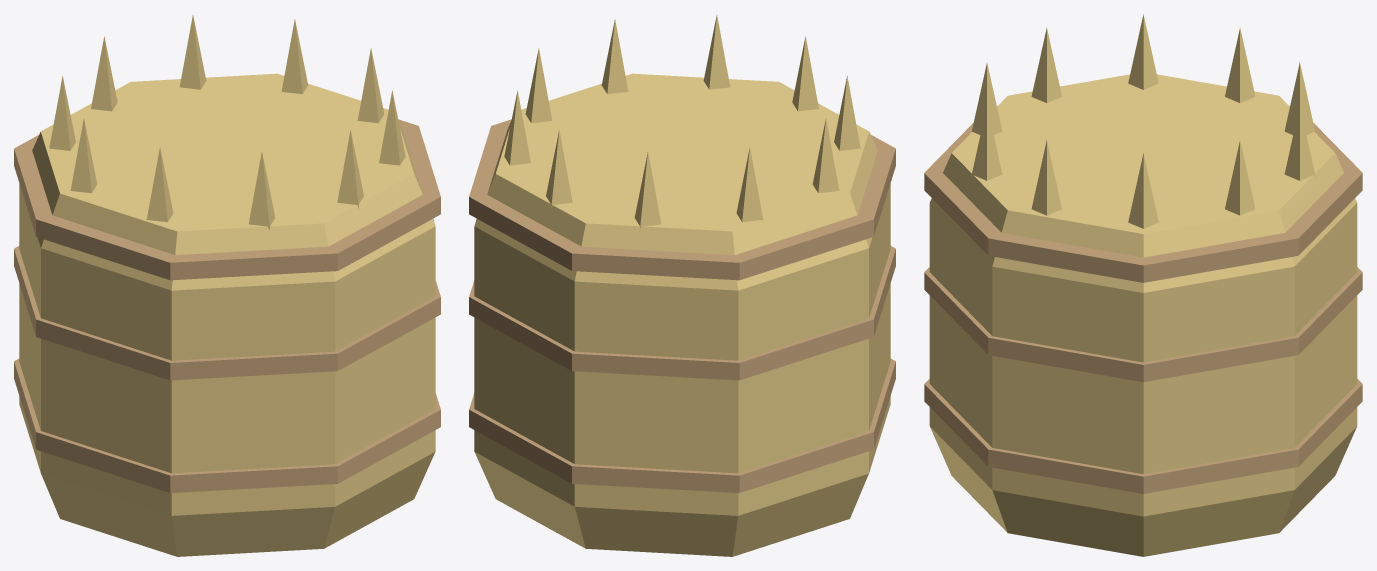
File: medieval-mmo-starter-realm-hay-bale-12135bfd.glb
The picture shows the model from 3 angles, left to right: view 1: azimuth 30°, elevation 25°; view 2: azimuth 150°, elevation 25°; view 3: azimuth 270°, elevation 25°; orthographic projection.
Visible parts, largest first — view 1: hay-bale; view 2: hay-bale; view 3: hay-bale.
Boxes of the visible parts, box(x1,y1,x2,y2) form: hay-bale: box(14, 15, 440, 556); hay-bale: box(469, 15, 895, 556); hay-bale: box(924, 14, 1362, 556).
Bounding box in the file's own units: 1.6 × 1.58 × 1.6.
